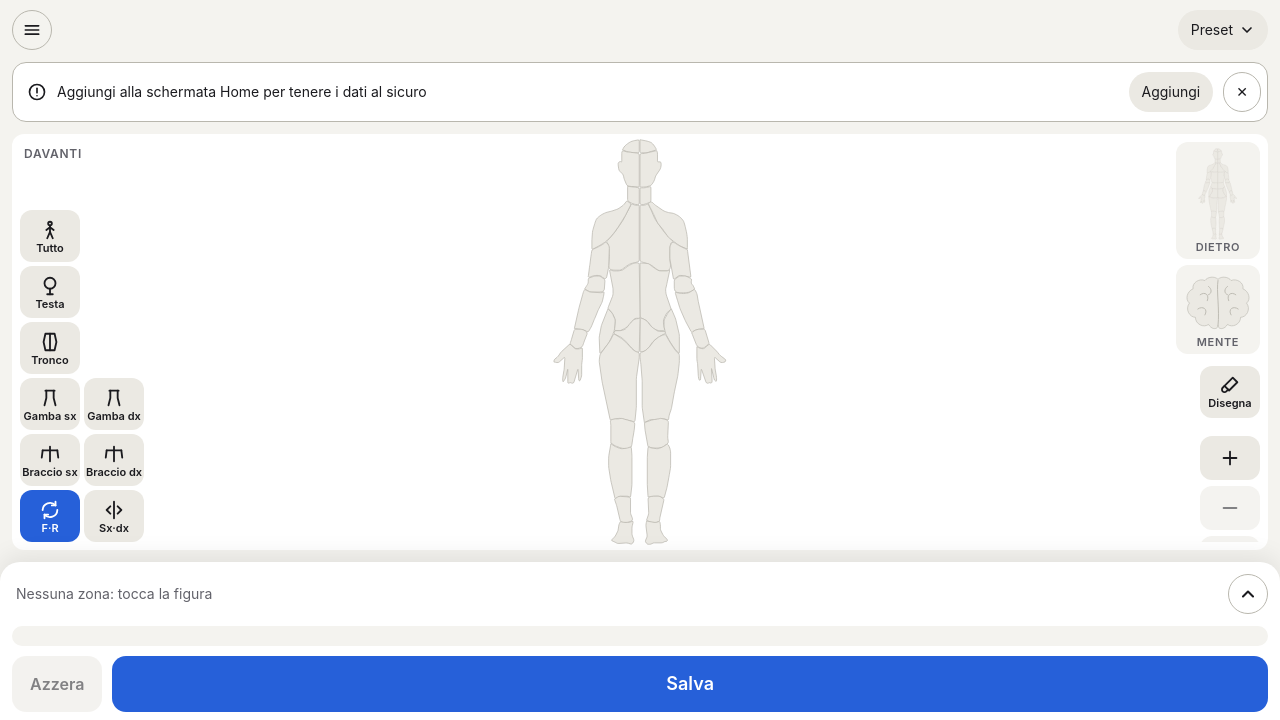
Diary list › explains itself while there is nothing to show
Step 1. Click the button named "Menu" → (32, 30), box [12,10,52,50]
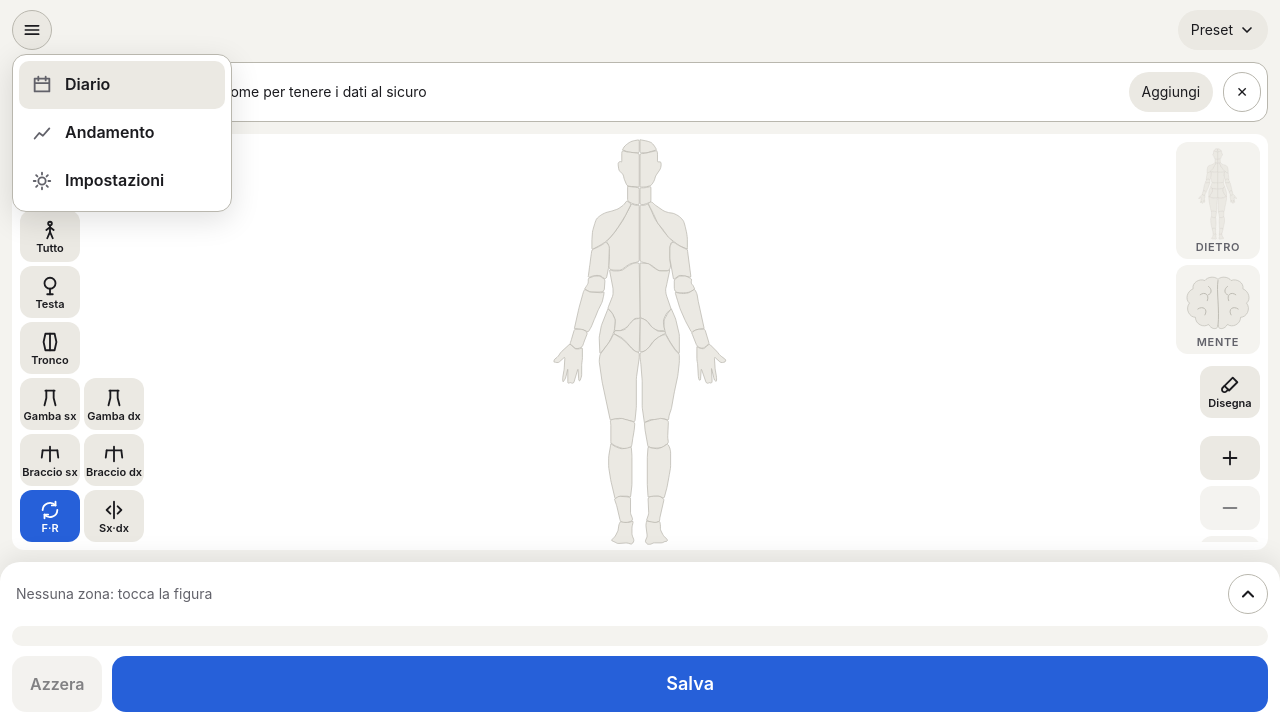
Step 2. Click the menu item "Diario" → (122, 85), box [19,61,225,109]
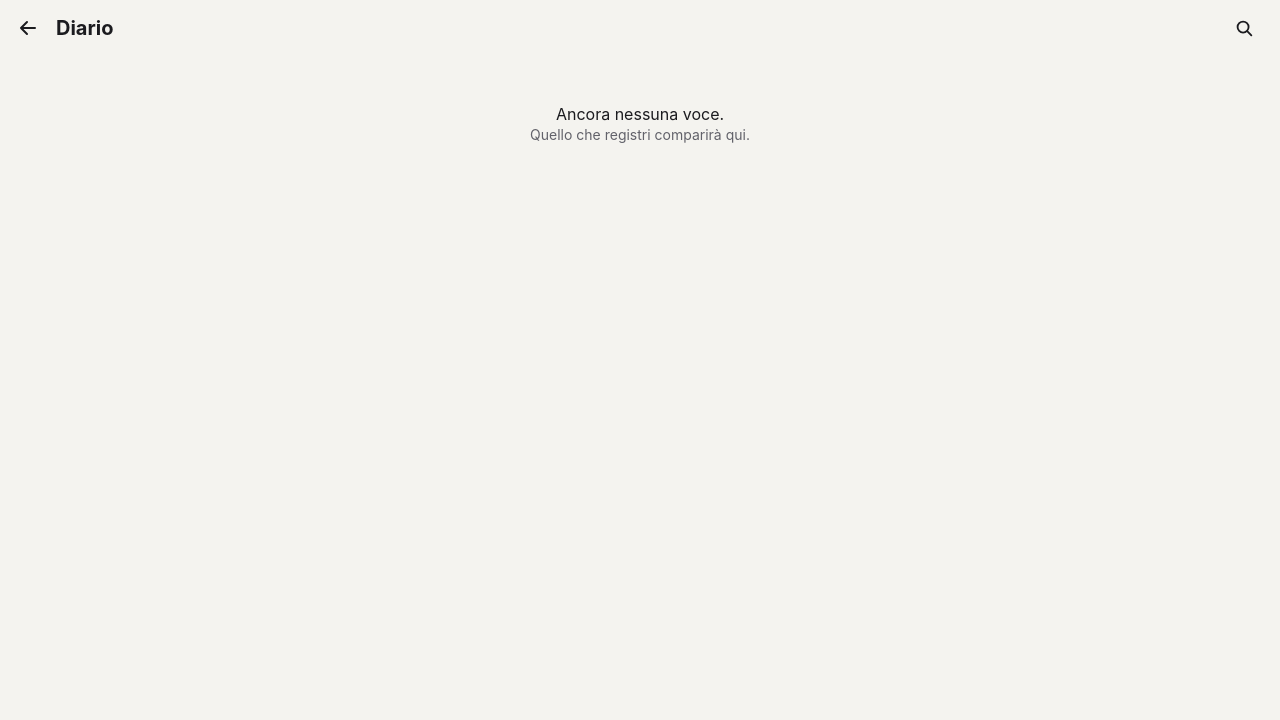
Expected: the text "Ancora nessuna voce." is shown, [556,104,724,124]
Expected: the text "Quello che registri comparirà qui." is shown, [530,126,750,143]
